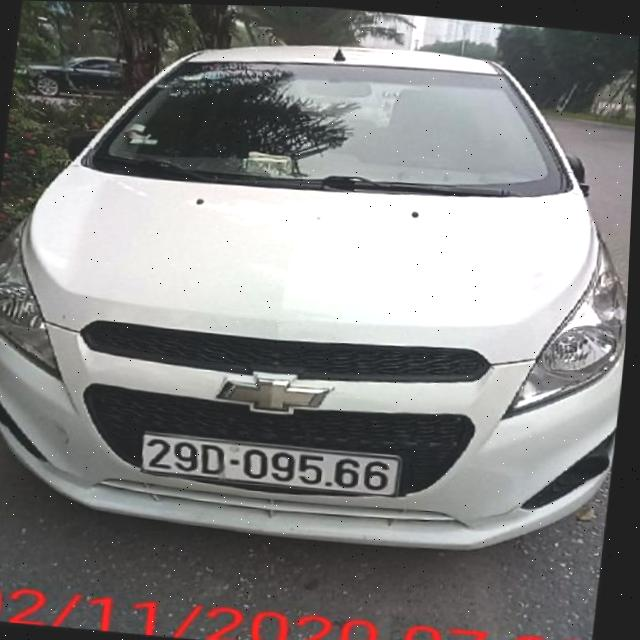car: (0, 0, 640, 588)
plate: (134, 425, 406, 501)
